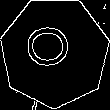O_E: (29, 30, 80, 74)
